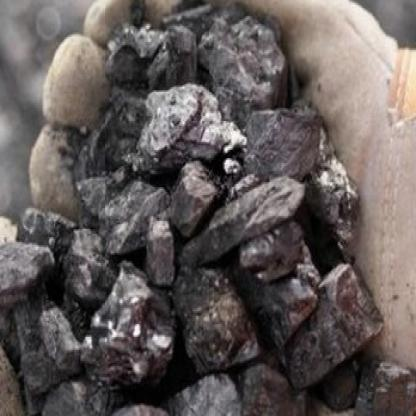Sedimentary_coal: (80, 274, 169, 414), (275, 277, 384, 379), (192, 164, 306, 258), (136, 80, 242, 180), (164, 260, 262, 353), (97, 184, 174, 264), (170, 372, 246, 414)
